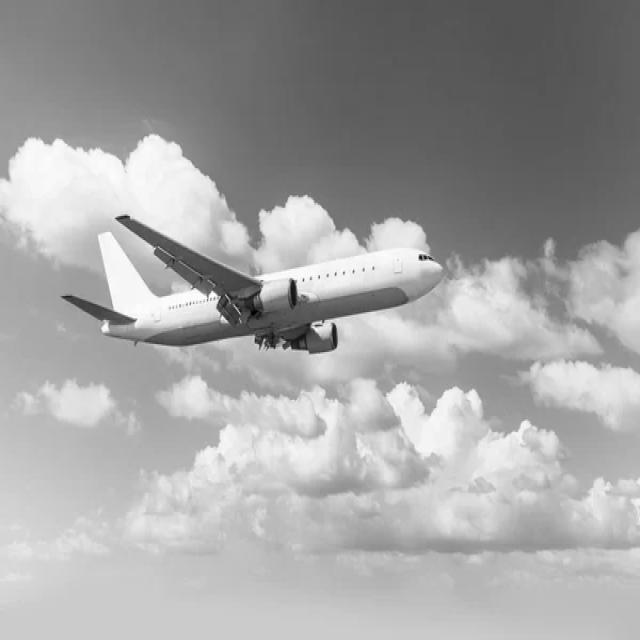Aircraft: (57, 198, 447, 358)
